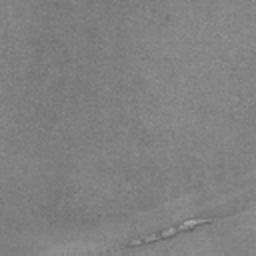Finishing roll printing: (125, 218, 216, 248)
